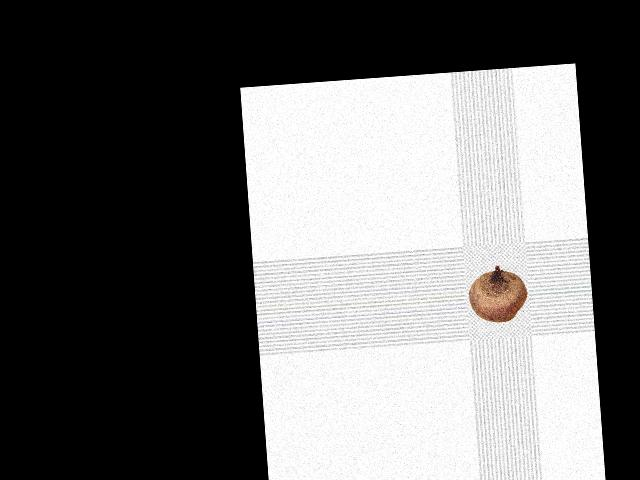beet: (467, 263, 529, 324)
